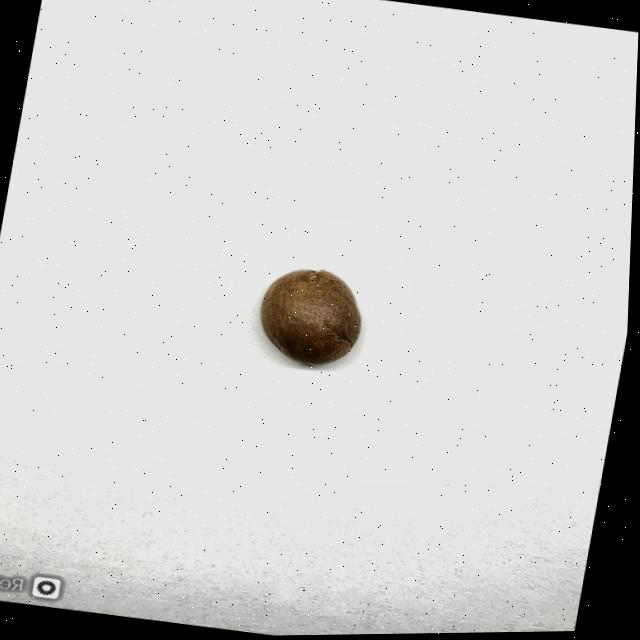Good bean: (254, 263, 374, 373)
